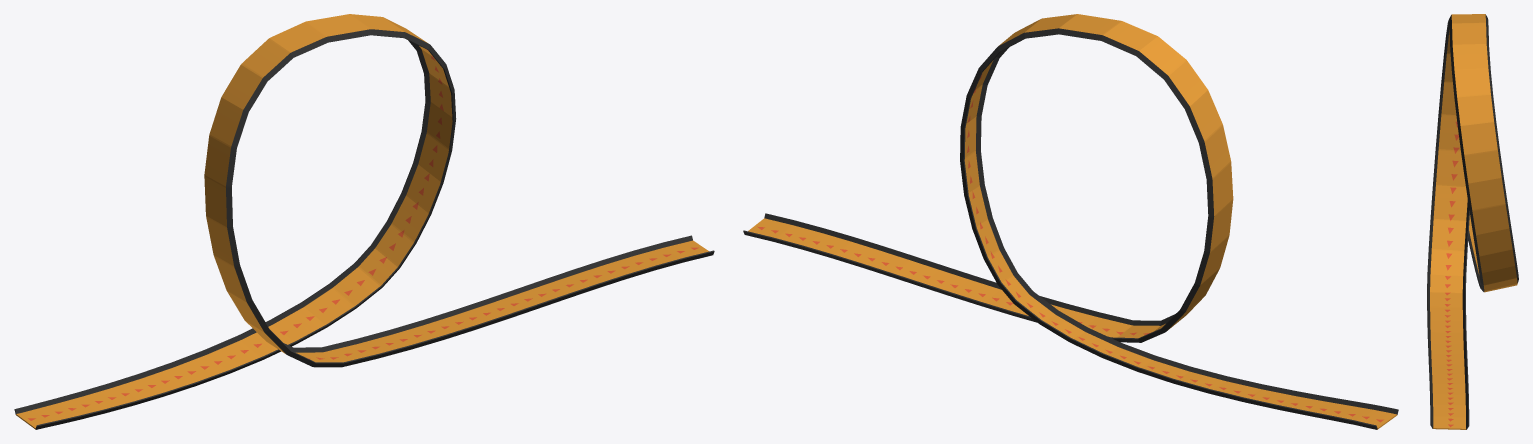
The model's file is loop_1.fbx.
3 views of the same model, side by side, from view 1: azimuth 30°, elevation 25°; view 2: azimuth 150°, elevation 25°; view 3: azimuth 270°, elevation 25° (orthographic). The views are drawn at different scales.
Parts seen in each view (by area): view 1: Plane; view 2: Plane; view 3: Plane.
Part boxes in pixels (x1=…): Plane: x1=14, y1=14, x2=714, y2=429; Plane: x1=743, y1=14, x2=1398, y2=429; Plane: x1=1427, y1=14, x2=1518, y2=429.
Size of the model in its own units: 30048 by 14397 by 4330.
